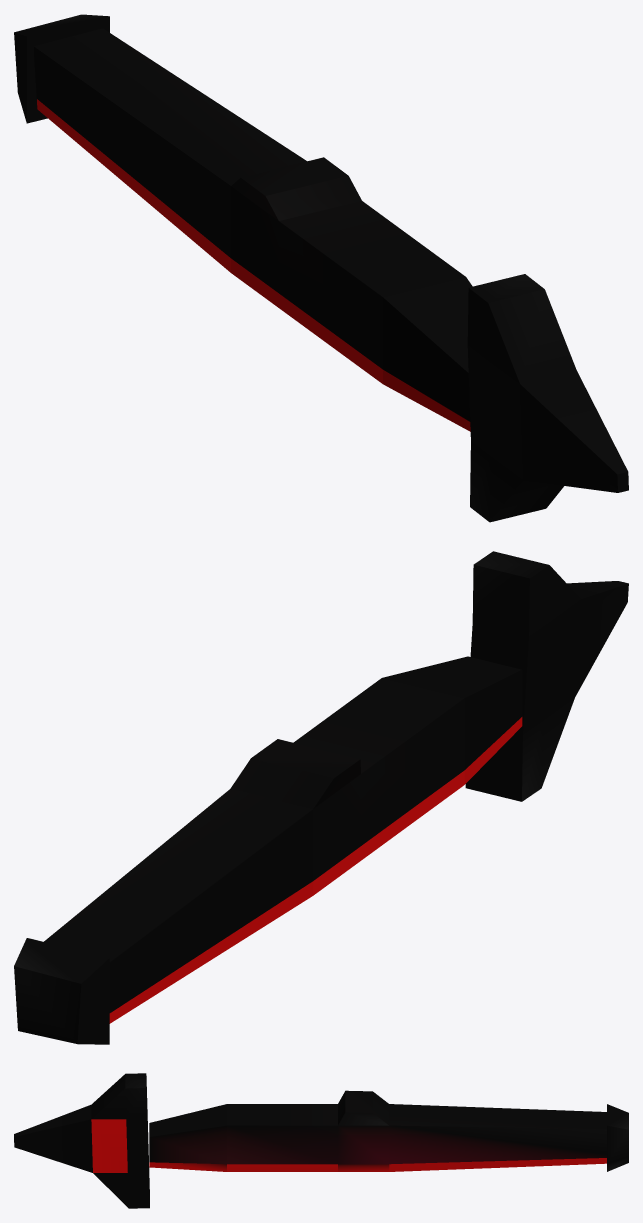
Rendered from EnemySword.fbx.
3 renders of one model, top to bottom at view 1: azimuth 30°, elevation 25°; view 2: azimuth 150°, elevation 25°; view 3: azimuth 270°, elevation 25°, orthographic. The views are drawn at different scales.
Visible parts, largest first — view 1: Espada; view 2: Espada; view 3: Espada.
Boxes of the visible parts, left/top/right/bottom form: Espada: left=14, top=14, right=628, bottom=522; Espada: left=14, top=551, right=628, bottom=1044; Espada: left=14, top=1073, right=628, bottom=1208.
Bounding box in the file's own units: 35.75 × 85.31 × 398.
